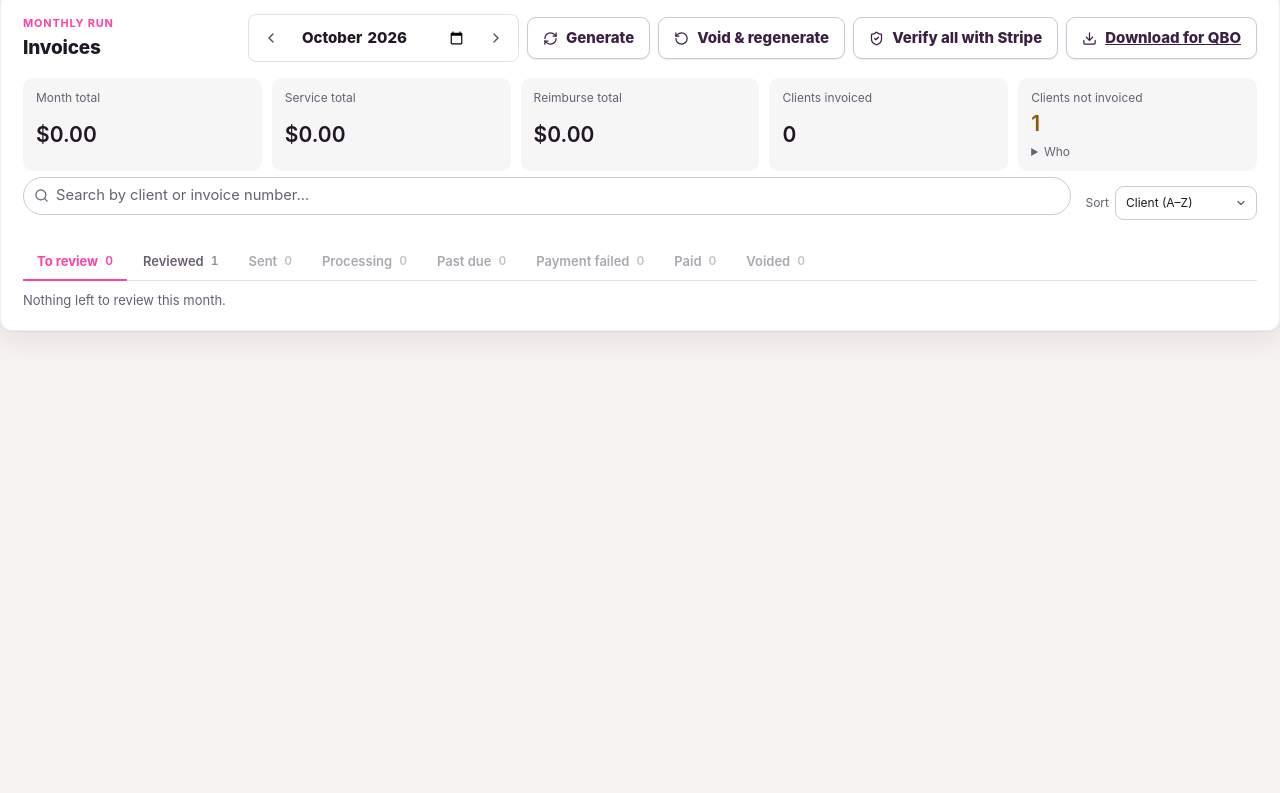
Test: a never-email client on the month run › a reviewed invoice (reviewed before the switch went on) still offers Mark reviewed to finish
Click the tab "Reviewed 1": (181, 262) [129, 242, 232, 281]
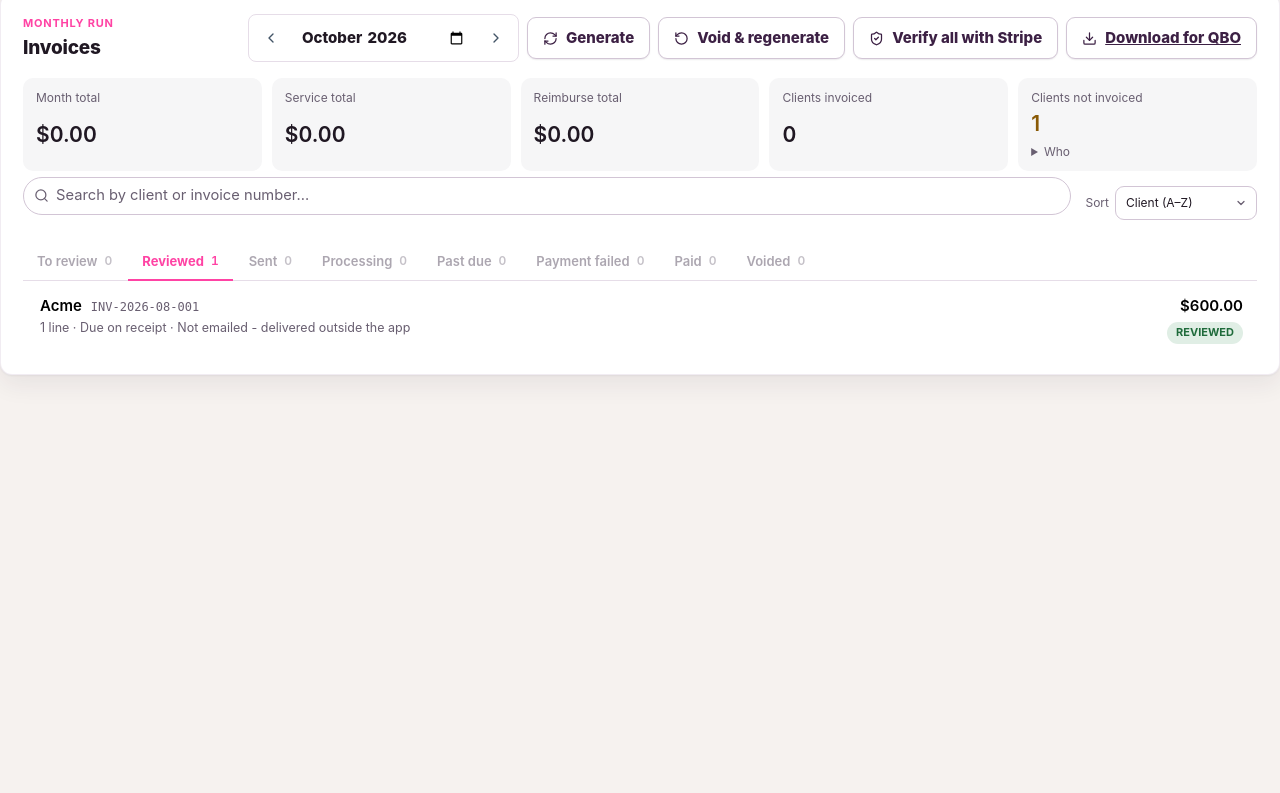
Click the text "INV-2026-08-001": (145, 308) [91, 299, 199, 317]
(page scrolled)
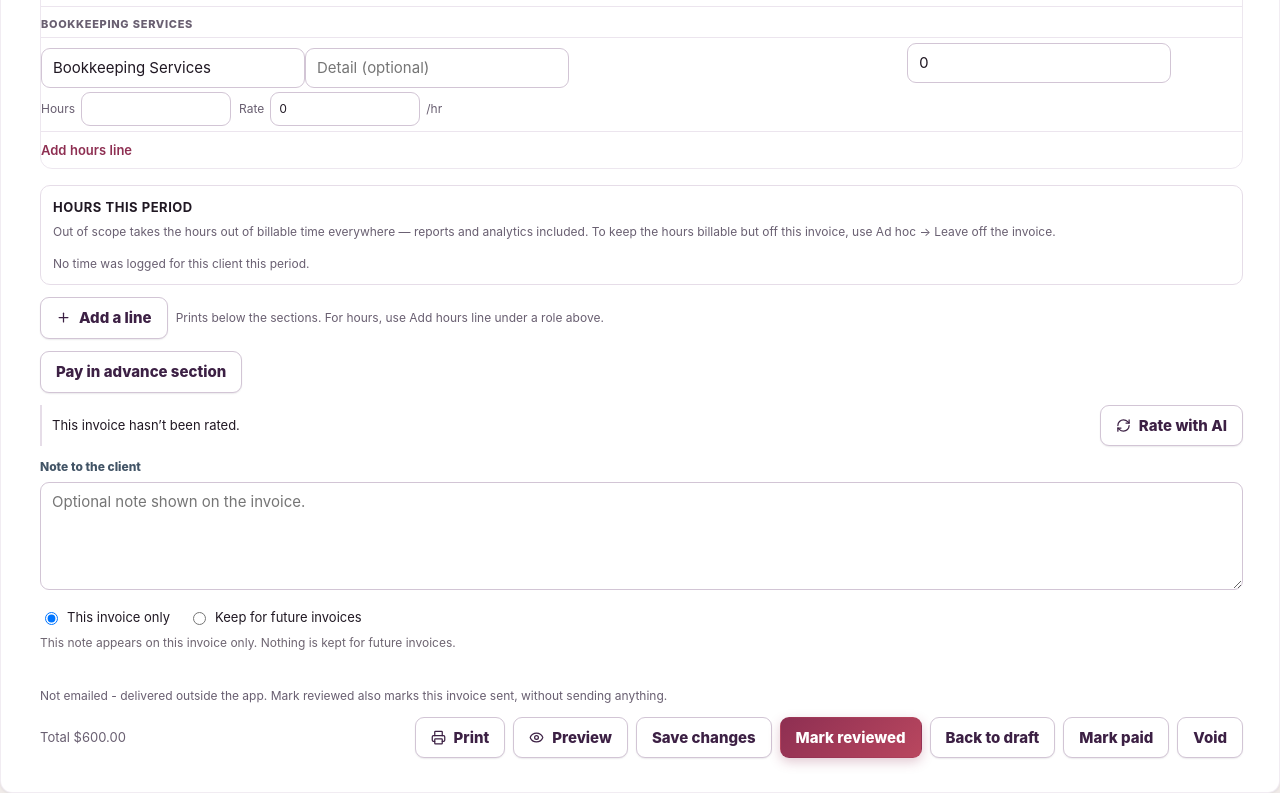
Check: the text box labelled "Note to the client" is shown, box [40, 482, 1243, 590]
Check: the button "Mark reviewed" is enabled, box [780, 717, 922, 758]
Check: the button "Back to draft" is enabled, box [930, 717, 1055, 758]
